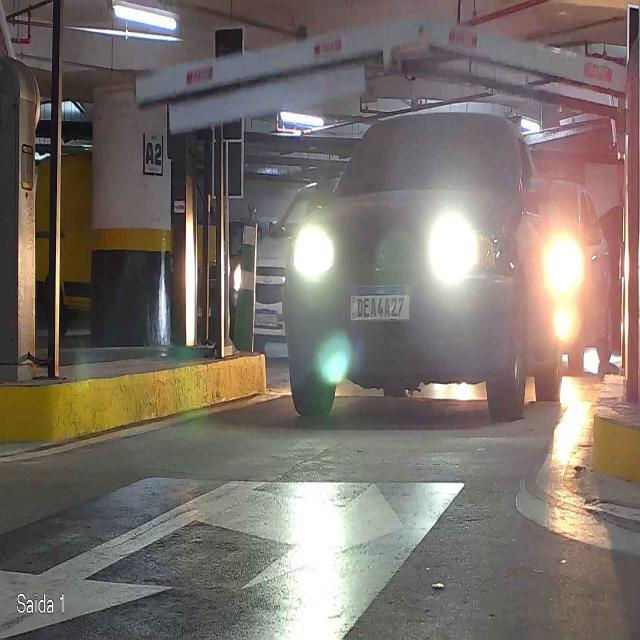mercosul_plate: (348, 286, 412, 322)
